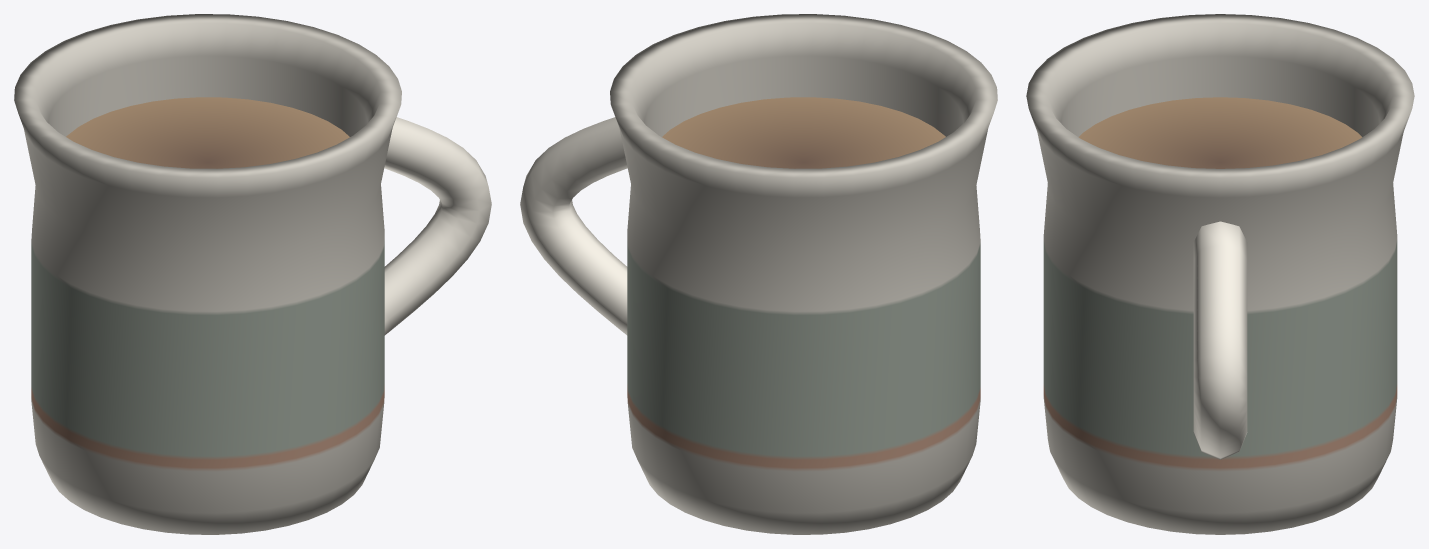
The model's file is mug-v1.glb.
3 views of the same model, side by side, from view 1: azimuth 30°, elevation 25°; view 2: azimuth 150°, elevation 25°; view 3: azimuth 270°, elevation 25° (orthographic).
Size of the model in its own units: 0.1202 by 0.095 by 0.09.
